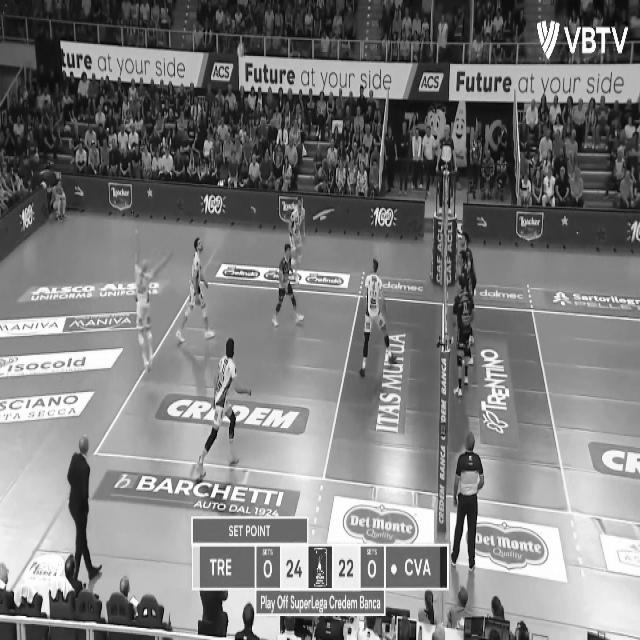volleyball court: (91, 278, 638, 522)
